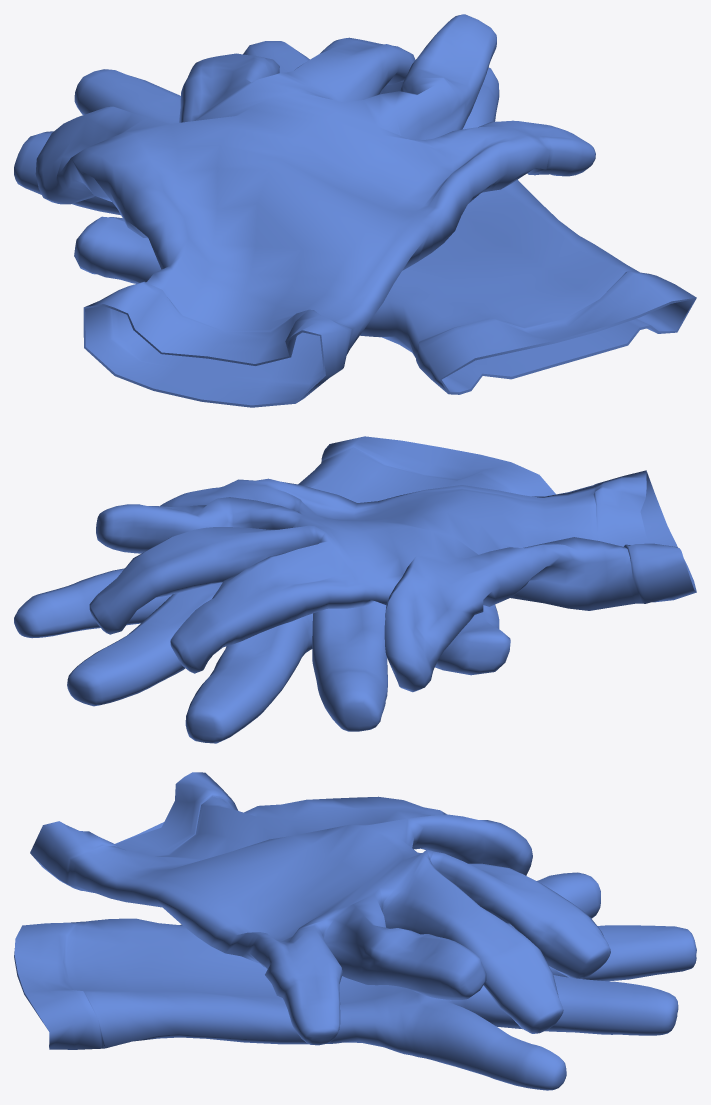
The model's file is gloves.glb.
3 renders of one model, top to bottom at view 1: azimuth 30°, elevation 25°; view 2: azimuth 150°, elevation 25°; view 3: azimuth 270°, elevation 25°, orthographic. The views are drawn at different scales.
Parts seen in each view (by area): view 1: Gloves2; view 2: Gloves2; view 3: Gloves2.
Boxes of the visible parts, x1,y1,x2,y2 form: Gloves2: [14, 14, 696, 407]; Gloves2: [14, 436, 696, 743]; Gloves2: [14, 772, 696, 1090].
Bounding box in the file's own units: 0.2363 × 0.0538 × 0.2679.
